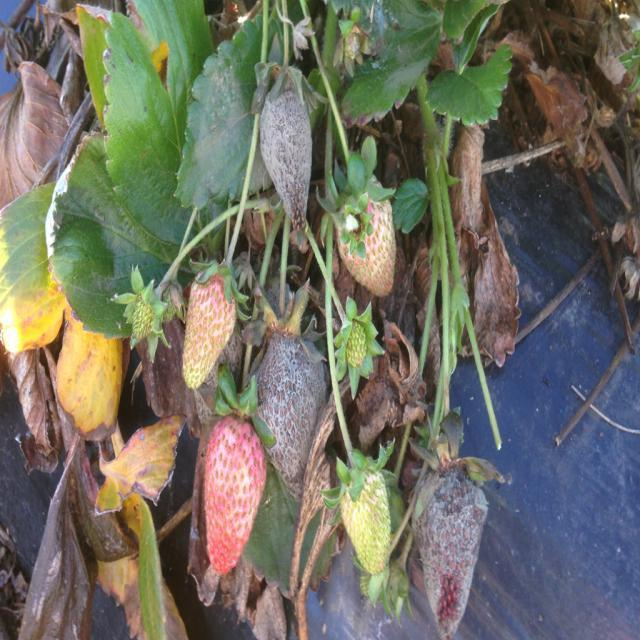Moho gris: (412, 470, 487, 640), (262, 334, 320, 480), (264, 84, 310, 226)
